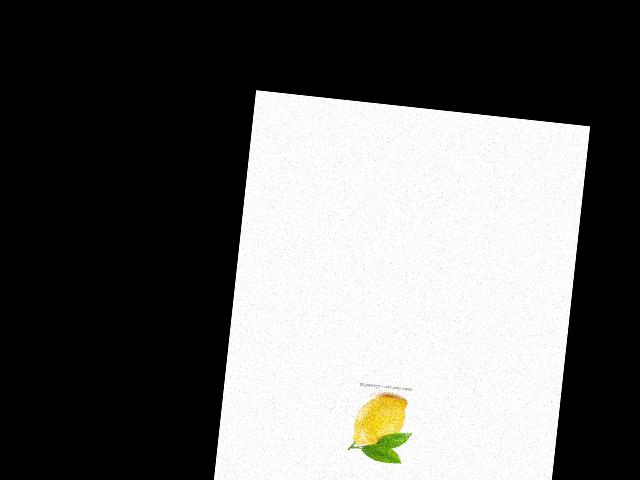lemon: (348, 391, 413, 457)
